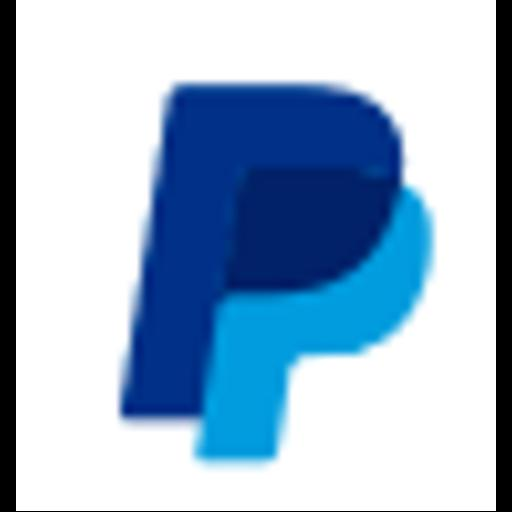PayPal: (16, 0, 496, 511)
